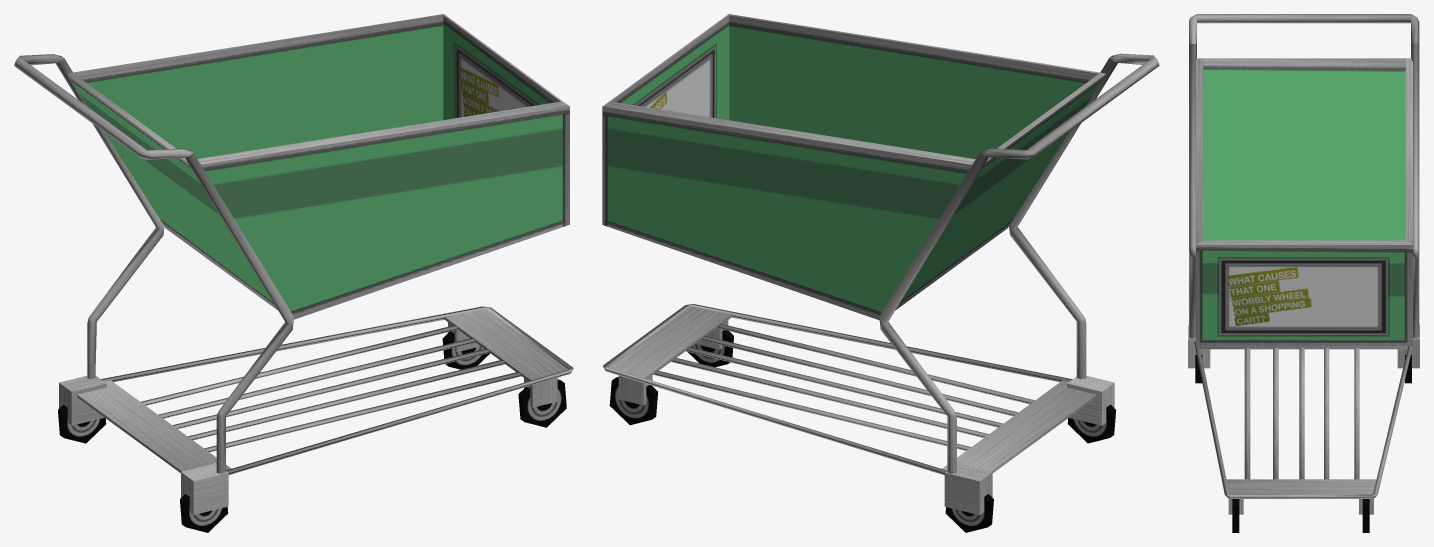
Rendered from Einkaufswagen.fbx.
3 renders of one model, left to right at view 1: azimuth 30°, elevation 25°; view 2: azimuth 150°, elevation 25°; view 3: azimuth 270°, elevation 25°, orthographic. The views are drawn at different scales.
Parts seen in each view (by area): view 1: wagen, rad3, rad2, rad1, rad4; view 2: wagen, rad4, rad1, rad2, rad3; view 3: wagen.
Part boxes in pixels (x1=…): wagen: x1=14, y1=14, x2=573, y2=514; rad3: x1=518, y1=379, x2=566, y2=427; rad2: x1=58, y1=405, x2=106, y2=443; rad1: x1=180, y1=494, x2=228, y2=532; rad4: x1=442, y1=331, x2=490, y2=369; wagen: x1=602, y1=14, x2=1159, y2=515; rad4: x1=609, y1=377, x2=657, y2=425; rad1: x1=1067, y1=404, x2=1115, y2=443; rad2: x1=945, y1=494, x2=993, y2=532; rad3: x1=688, y1=330, x2=733, y2=367; wagen: x1=1188, y1=14, x2=1419, y2=514.
Bounding box in the file's own units: 378 × 315 × 194.
